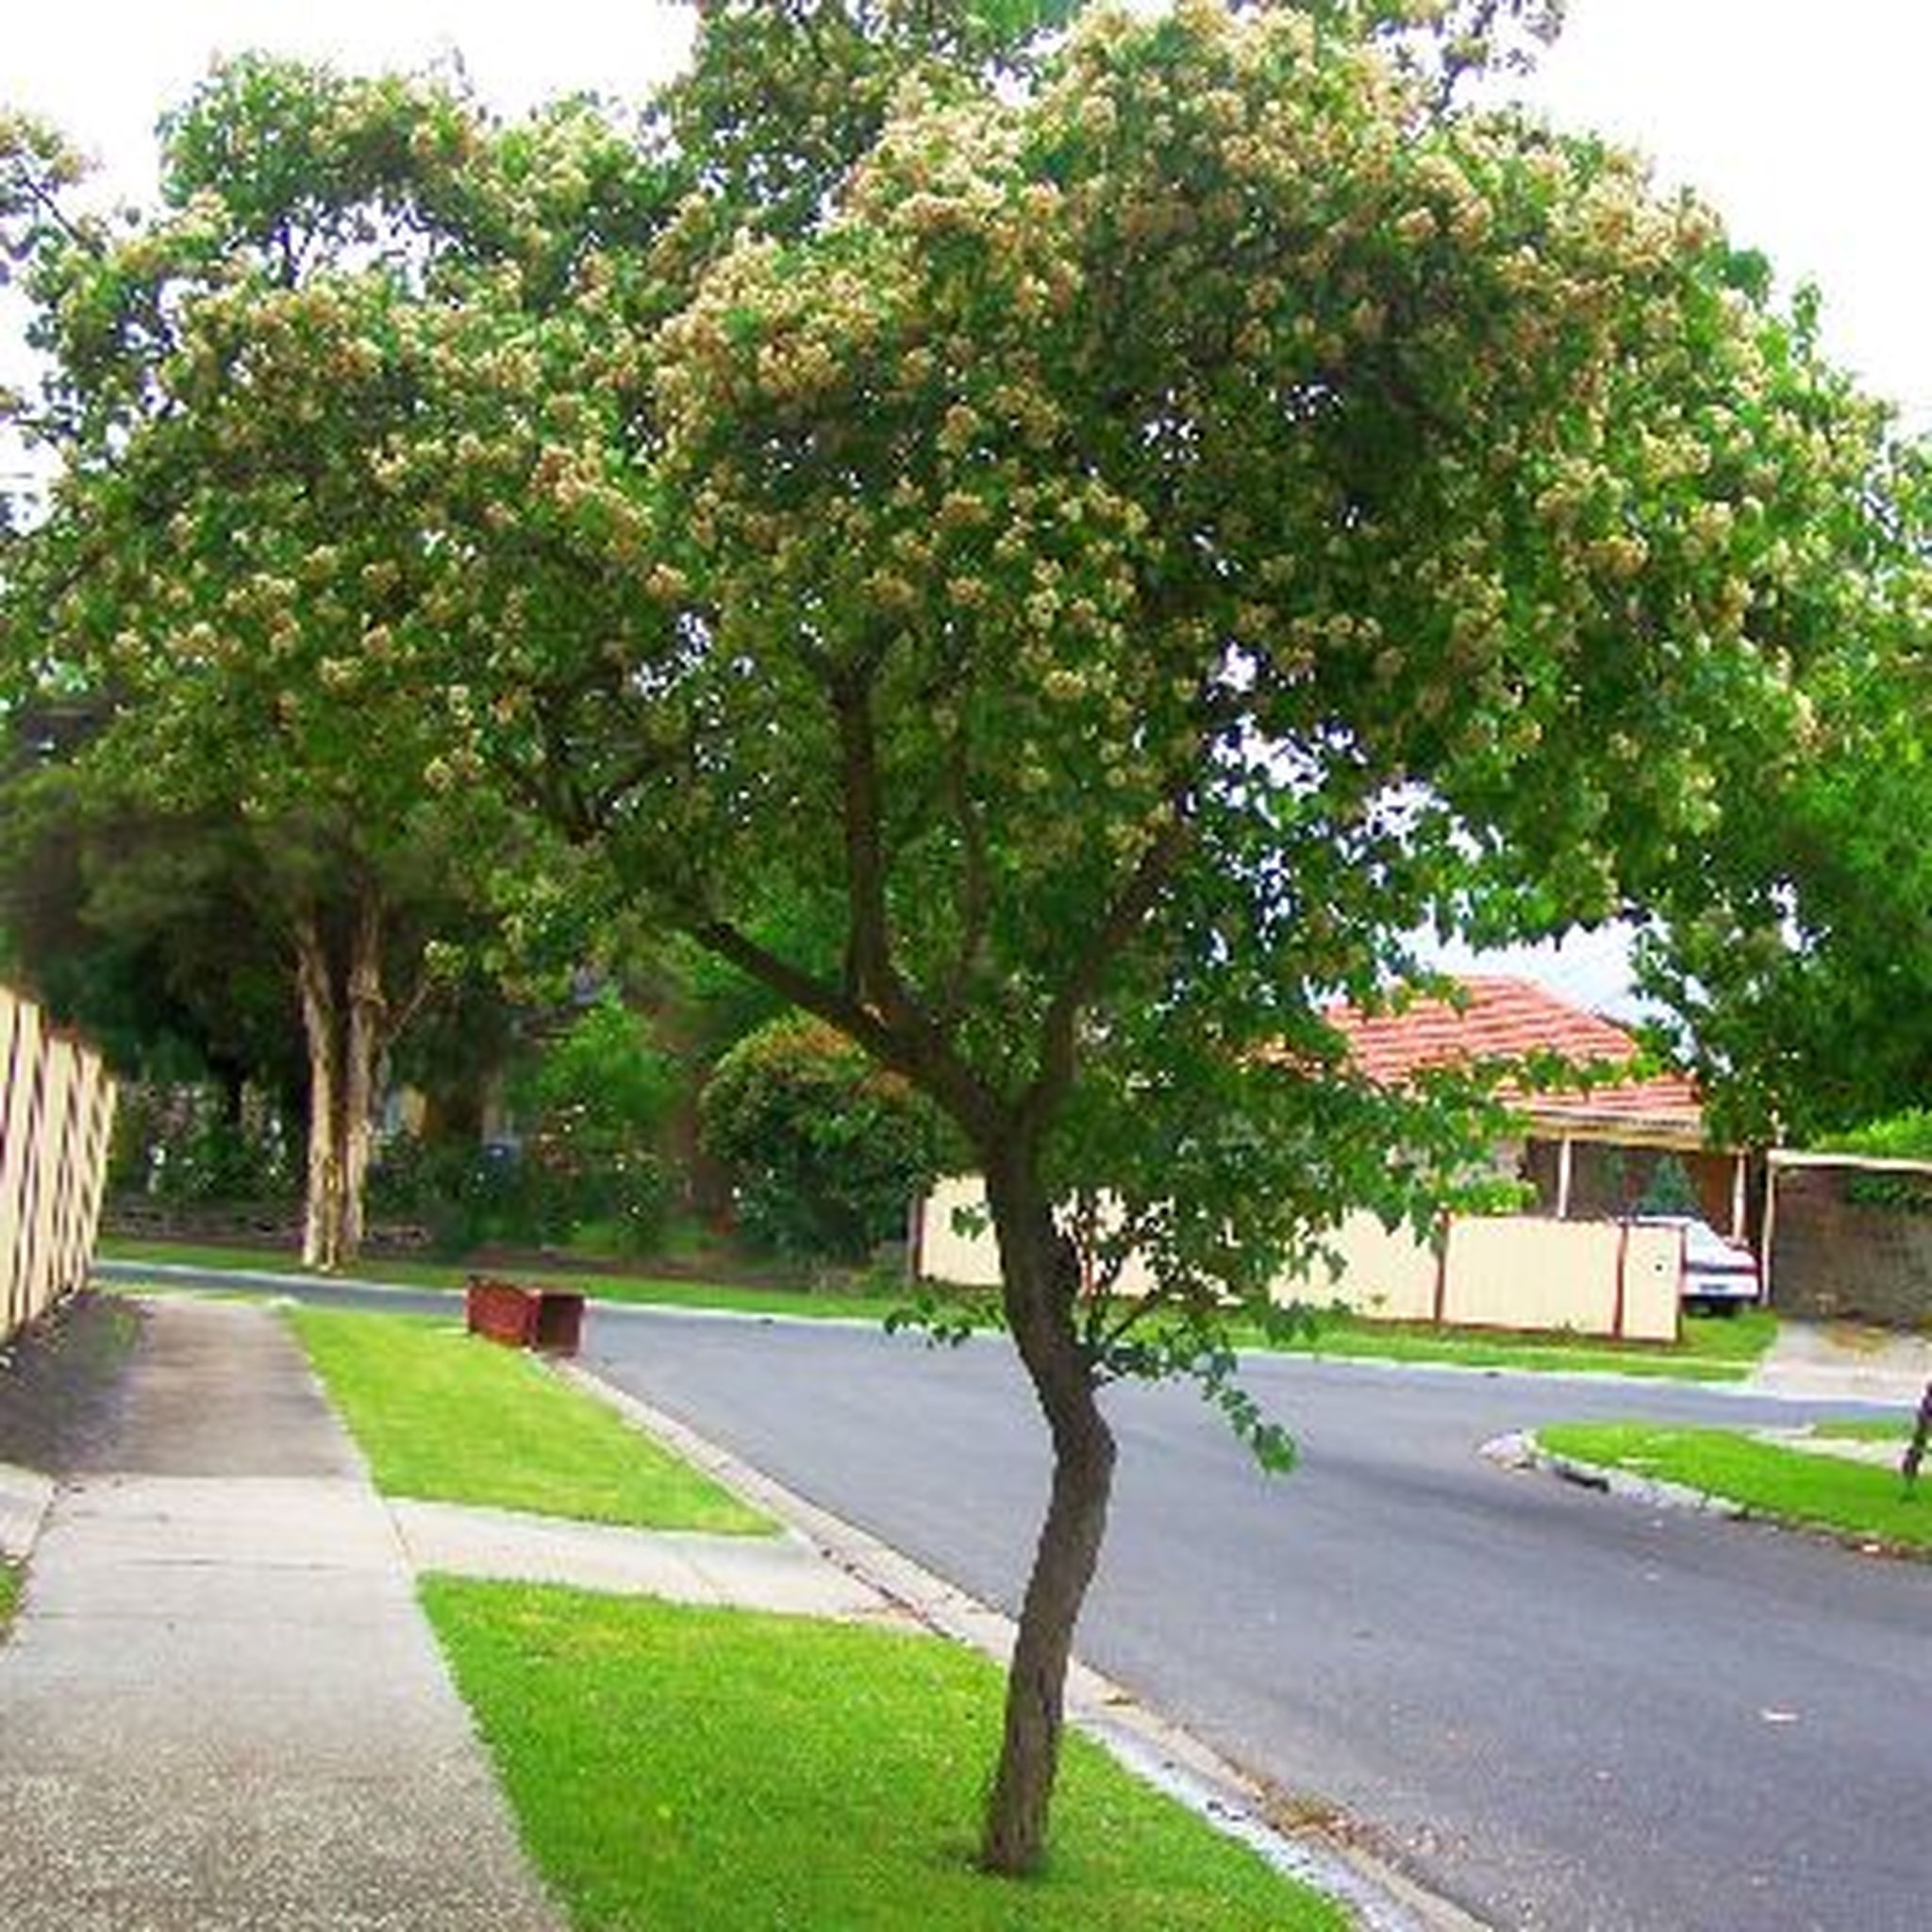tree: (170, 2, 1921, 1879)
